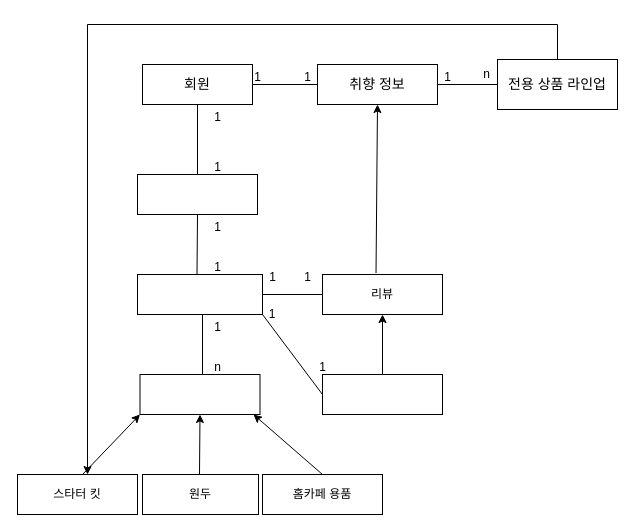
This 635x532 diagram has some shape labels left out. Each missing label, with the centre of its shape:
"배송" goes at pixel 382 394.
"상품" goes at pixel 199 394.
"장바구니" goes at pixel 197 194.
"주문" goes at pixel 199 294.
